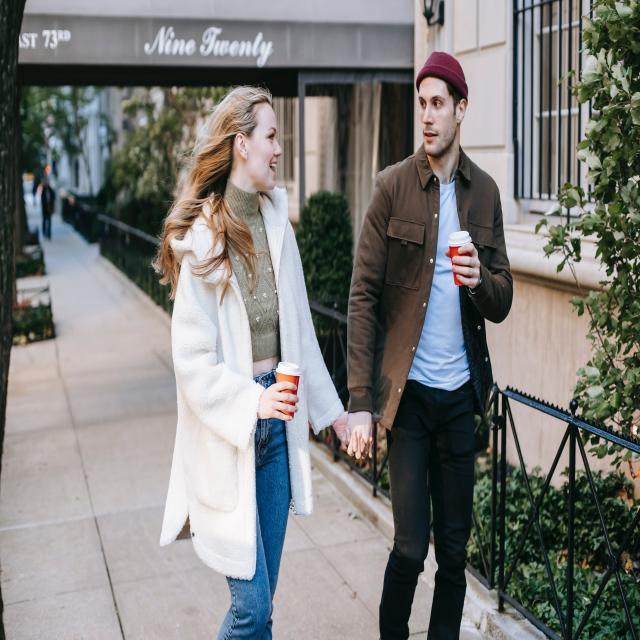cup: (275, 360, 302, 420), (447, 230, 473, 286)
